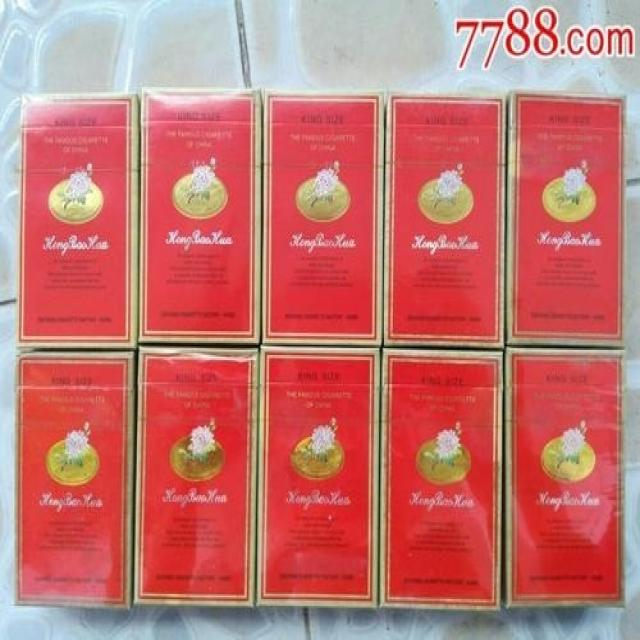box: (378, 348, 506, 611), (256, 346, 383, 611), (132, 346, 260, 608), (260, 89, 387, 348), (15, 92, 141, 352), (503, 346, 626, 611), (137, 87, 262, 346), (12, 352, 137, 609), (383, 92, 506, 352), (506, 89, 627, 346)
